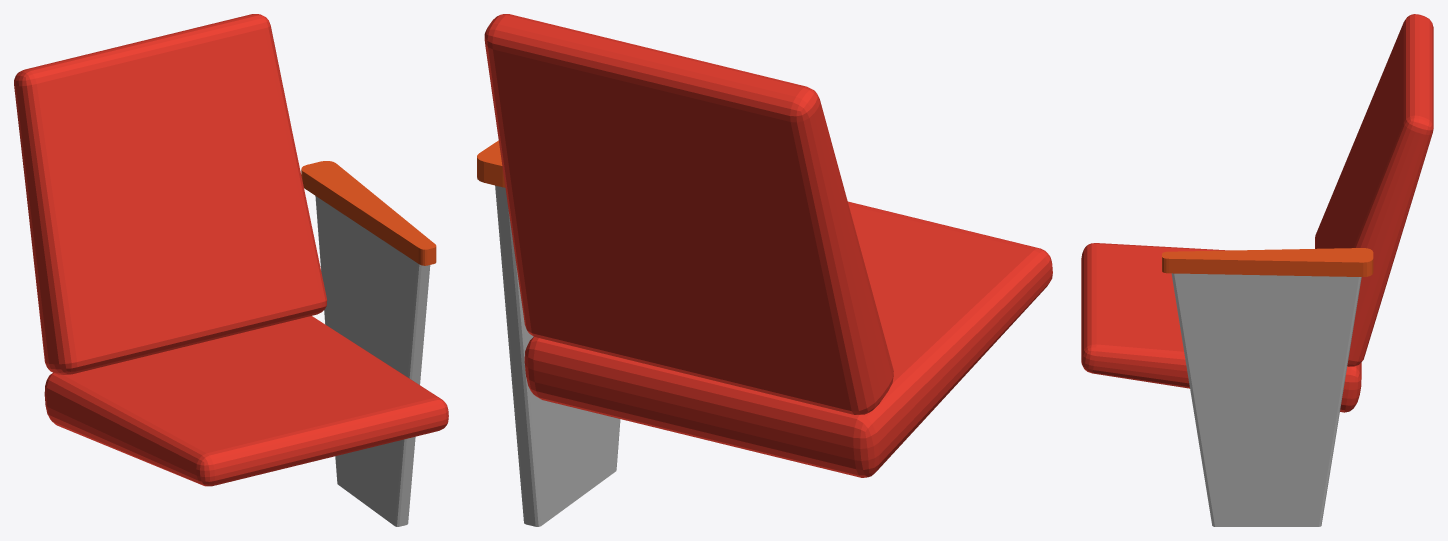
File: TheatreSeat.fbx
3 views of the same model, side by side, from view 1: azimuth 30°, elevation 25°; view 2: azimuth 150°, elevation 25°; view 3: azimuth 270°, elevation 25° (orthographic). The views are drawn at different scales.
Parts seen in each view (by area): view 1: CushionBack, Cushion, ArmRest; view 2: CushionBack, Cushion, ArmRest; view 3: ArmRest, CushionBack, Cushion.
Boxes of the visible parts, left/top/right/bottom form: CushionBack: left=14, top=14, right=327, bottom=374; Cushion: left=44, top=316, right=448, bottom=486; ArmRest: left=301, top=161, right=436, bottom=526; CushionBack: left=484, top=14, right=893, bottom=414; Cushion: left=524, top=201, right=1052, bottom=477; ArmRest: left=477, top=140, right=620, bottom=526; ArmRest: left=1162, top=248, right=1373, bottom=526; CushionBack: left=1315, top=14, right=1433, bottom=366; Cushion: left=1081, top=243, right=1361, bottom=412.
Size of the model in its own units: 221 by 310 by 251.
